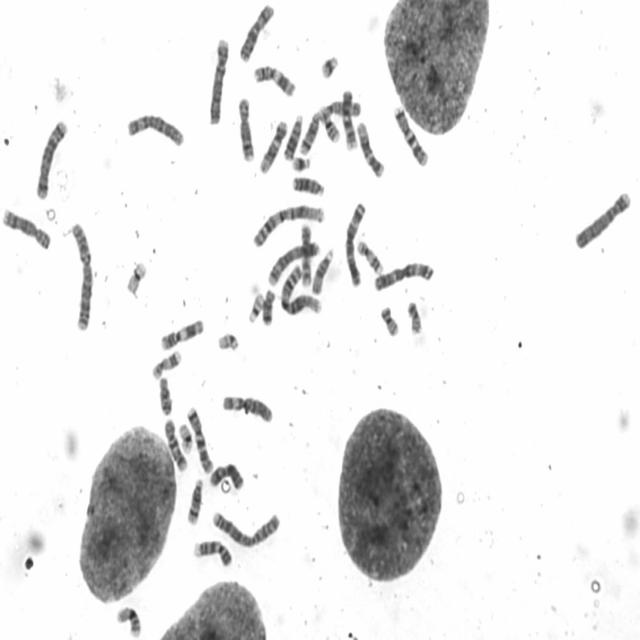A1: (250, 200, 327, 249), (278, 262, 323, 316)
A2: (209, 506, 282, 549), (68, 218, 94, 332)
A3: (371, 258, 436, 294), (342, 199, 367, 288)
B4: (572, 188, 633, 251), (206, 34, 230, 126)
B5: (34, 116, 68, 201), (266, 239, 320, 287)
C10: (162, 416, 189, 474), (300, 224, 312, 286)
C11: (251, 61, 297, 99), (158, 315, 205, 352)
C12: (354, 118, 386, 180), (257, 117, 288, 176)
C6: (124, 110, 186, 148), (220, 390, 274, 425)
C7: (392, 101, 429, 168), (185, 402, 213, 474)
C8: (1, 204, 52, 251), (236, 94, 256, 164)
C9: (191, 536, 234, 568), (340, 86, 359, 152)
D13: (282, 110, 304, 162), (290, 173, 326, 198)
D14: (297, 108, 322, 157), (183, 475, 204, 526)
D15: (310, 244, 334, 295), (326, 100, 362, 120)
E16: (318, 103, 342, 144), (114, 603, 142, 638)
E17: (355, 236, 384, 276), (150, 346, 182, 381)
E18: (156, 373, 174, 417), (260, 285, 276, 326)
F19: (124, 258, 148, 296), (178, 420, 195, 456)
F20: (378, 302, 400, 338), (405, 297, 423, 336)
G21: (317, 52, 340, 80), (290, 153, 311, 174)
G22: (246, 290, 265, 324), (215, 329, 240, 353)
X: (237, 1, 275, 64), (207, 460, 245, 492)
